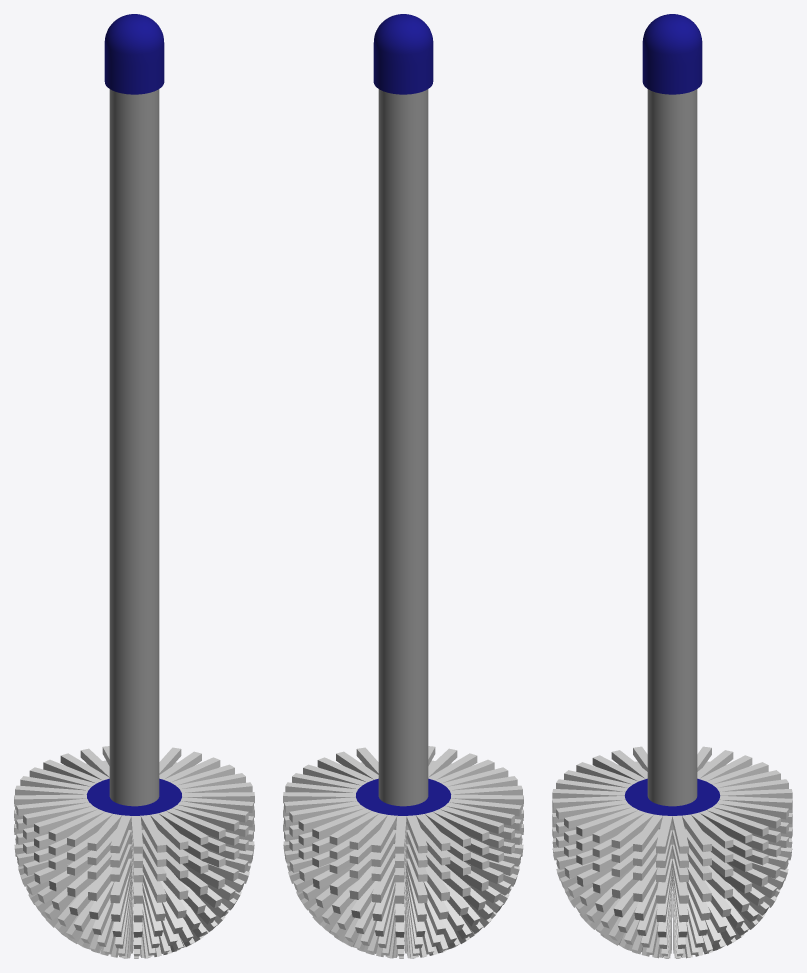
The model's file is szczota.fbx.
3 views of the same model, side by side, from view 1: azimuth 30°, elevation 25°; view 2: azimuth 150°, elevation 25°; view 3: azimuth 270°, elevation 25° (orthographic).
Parts seen in each view (by area): view 1: Sphere; view 2: Sphere; view 3: Sphere.
Boxes of the visible parts, x1,y1,x2,y2 form: Sphere: [14, 14, 254, 958]; Sphere: [283, 14, 523, 958]; Sphere: [552, 14, 792, 958].
Bounding box in the file's own units: 248 × 1057 × 248.
